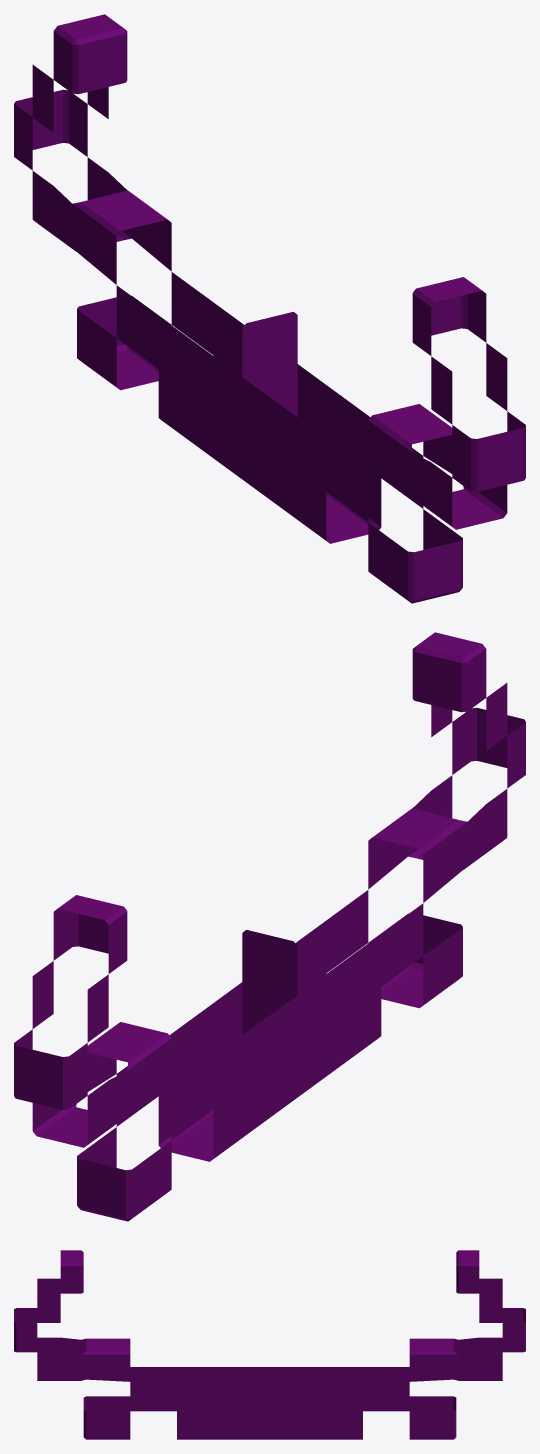
The model's file is Escudo 5.fbx.
3 renders of one model, top to bottom at view 1: azimuth 30°, elevation 25°; view 2: azimuth 150°, elevation 25°; view 3: azimuth 270°, elevation 25°, orthographic. The views are drawn at different scales.
Visible parts, largest first — view 1: Escudo 2 Roto 3; view 2: Escudo 2 Roto 3; view 3: Escudo 2 Roto 3.
Part boxes in pixels (x1,y1,x2,y2): Escudo 2 Roto 3: (14,14,525,603); Escudo 2 Roto 3: (14,632,525,1221); Escudo 2 Roto 3: (14,1250,525,1439).
Bounding box in the file's own units: 10.23 × 56.57 × 149.
